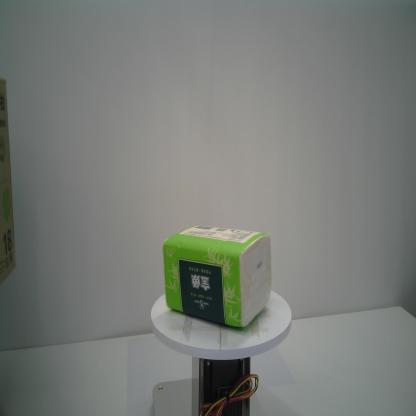Tissue: (161, 223, 273, 331)
